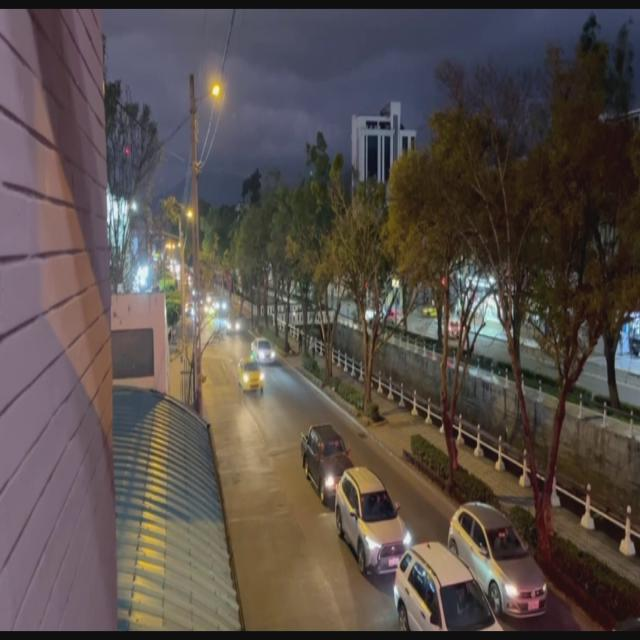CMT: (307, 430, 353, 504)
SUV: (454, 510, 545, 617), (336, 474, 403, 576), (254, 340, 275, 364)
